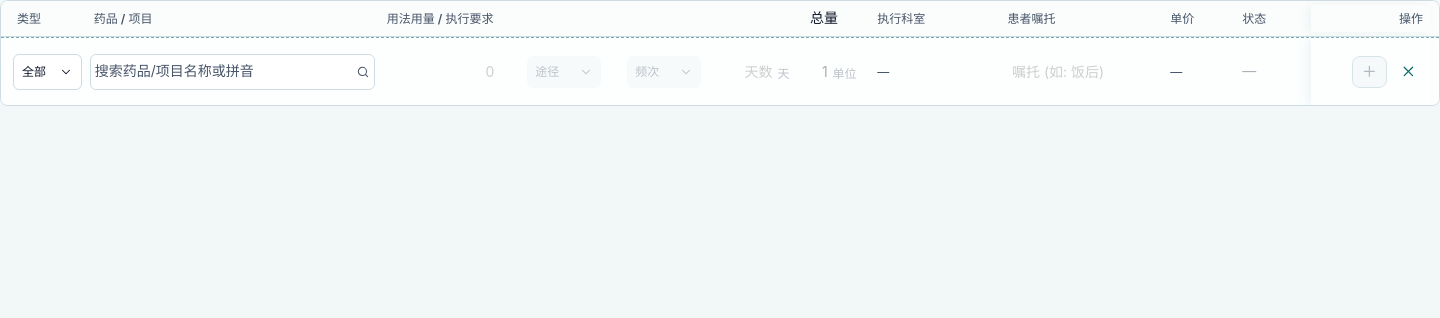
Test: UnifiedOrderListEditor › automatically enters grouping mode when adding an infusion head drug, locks route/frequency, and restores normal mode on finish
Click the dropdown labelled "搜索药品/项目名称或拼音". click: (232, 72)
box: [91,52,374,92]
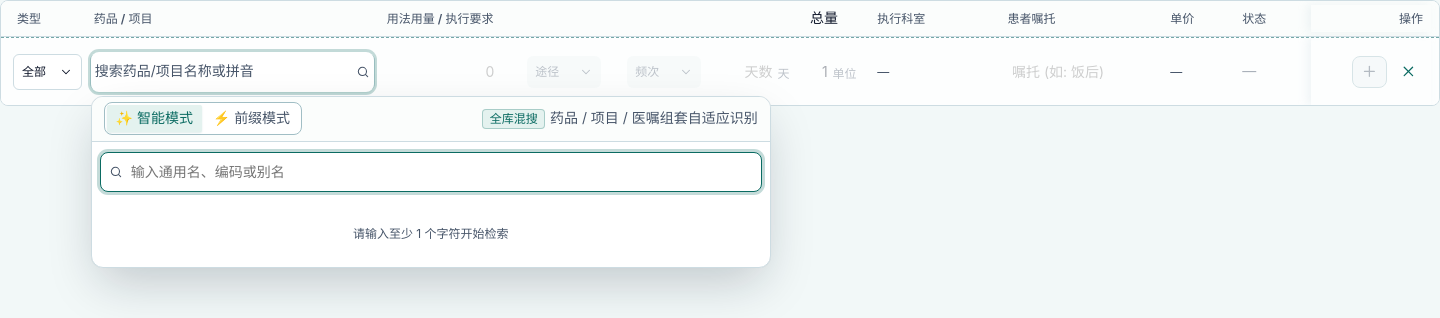
Type "氯化钠" into the field with placeholder "输入通用名、编码或别名". click: (442, 172)
box: [131,156,753,188]
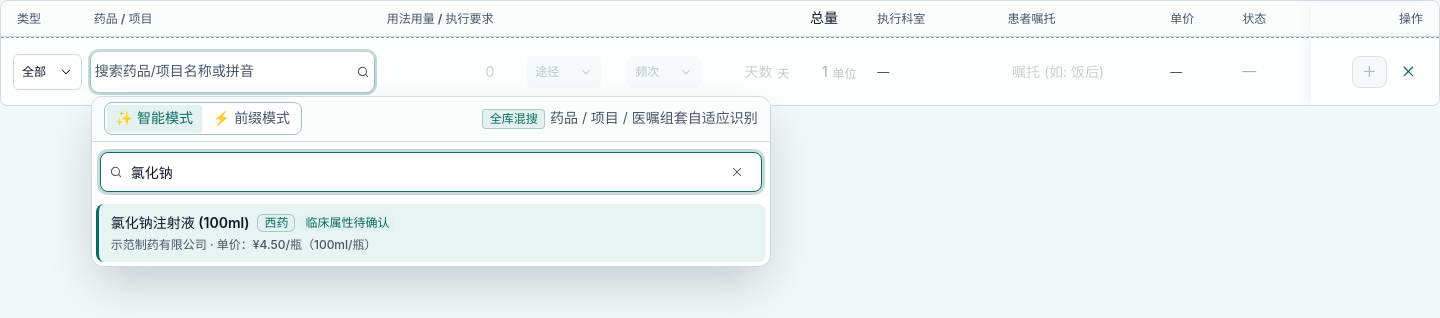
Click the option "氯化钠注射液 (100ml) 西药 临床属性待确认 示范制药有限公司 · 单价：¥4.50/瓶（100ml/瓶）". click: (180, 222)
box: [96,204,766,262]
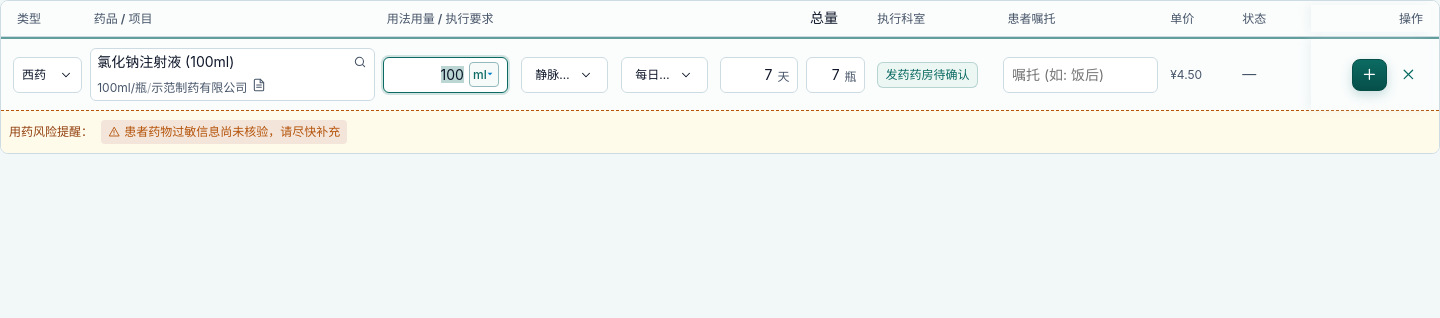
// 点击加入医嘱，首药（组头药）加入待确认后，系统自动激活成组模式
Click the button named "加入医嘱". click: (1369, 75)
box: [1352,59,1387,91]
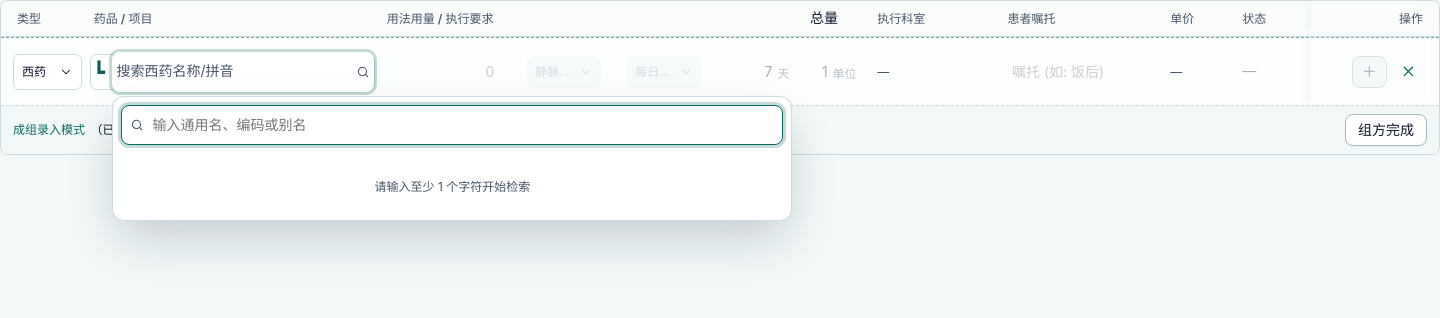
Check: the text "成组录入模式" is shown, box [13,120,85,140]
Check: the text "成组录入模式 （已关联首药：氯化钠注射液，途径与频次已对齐）" is shown, box [13,120,367,140]
Check: the number of buttons "组方完成" is 1
// 点击组方完成，退出成组模式，恢复常规开立
Click the button "组方完成". click: (1386, 130)
box: [1345,114,1427,146]
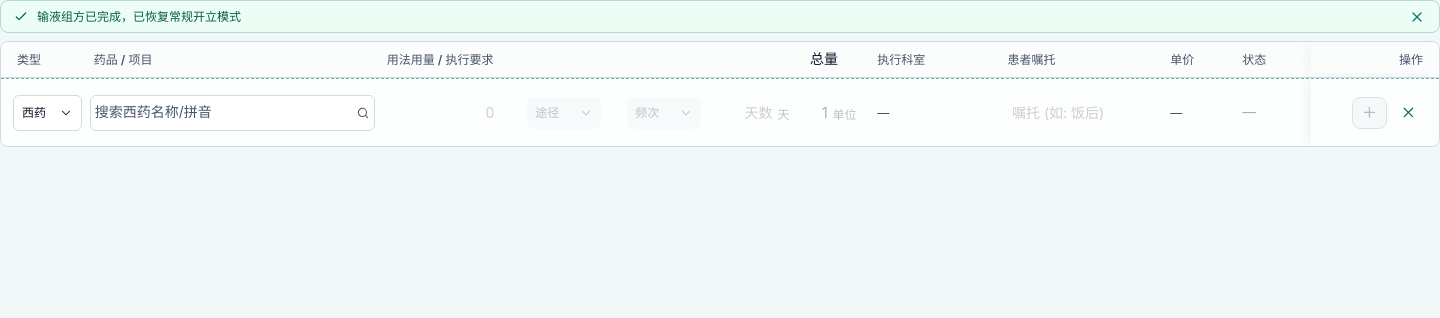
Check: the text "成组录入模式" is gone
Check: the text with class "doctor-group-bracket" is gone
